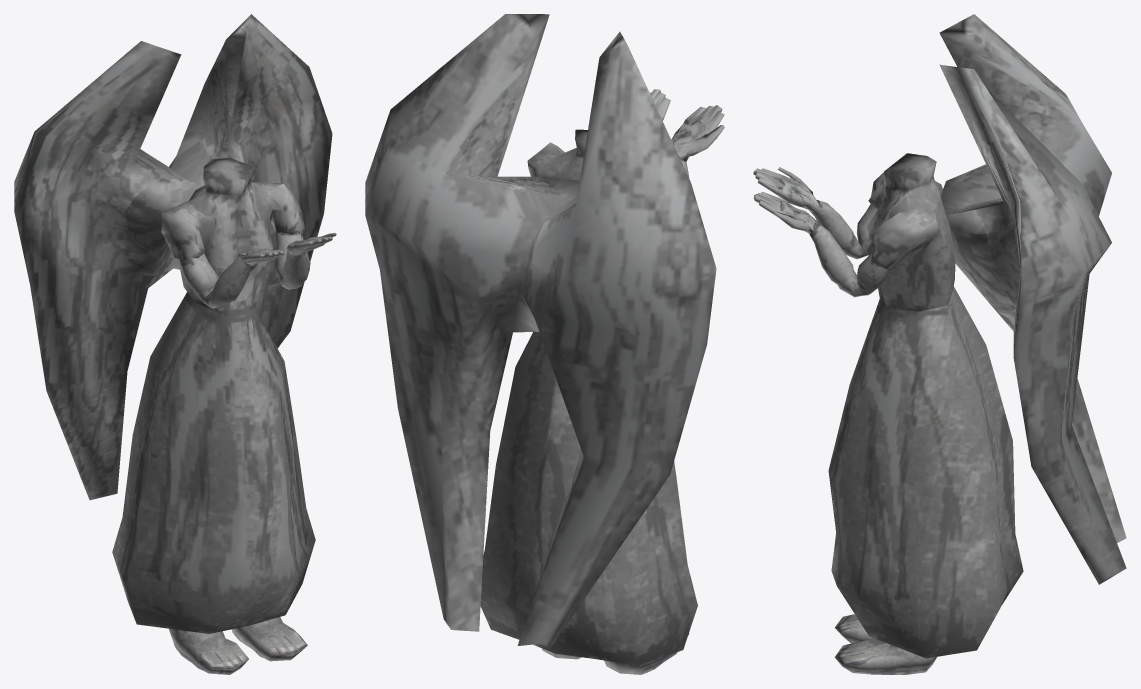
The model's file is armlessstatue.glb.
3 renders of one model, left to right at view 1: azimuth 30°, elevation 25°; view 2: azimuth 150°, elevation 25°; view 3: azimuth 270°, elevation 25°, orthographic. The views are drawn at different scales.
Visible parts, largest first — view 1: bodystatue_geo, shoes_geo, forearms_geo, hands_geo; view 2: bodystatue_geo, hands_geo, shoes_geo; view 3: bodystatue_geo, forearms_geo, shoes_geo, hands_geo.
Part boxes in pixels (bbox=[...]): bodystatue_geo: bbox=[14, 14, 332, 633]; shoes_geo: bbox=[169, 617, 307, 674]; forearms_geo: bbox=[179, 215, 310, 308]; hands_geo: bbox=[236, 233, 336, 265]; bodystatue_geo: bbox=[365, 14, 716, 665]; hands_geo: bbox=[649, 89, 724, 161]; shoes_geo: bbox=[541, 633, 689, 674]; bodystatue_geo: bbox=[828, 14, 1126, 658]; forearms_geo: bbox=[809, 200, 891, 297]; shoes_geo: bbox=[834, 614, 936, 674]; hands_geo: bbox=[753, 167, 819, 233].
Size of the model in its own units: 1.37 by 2.44 by 1.35.
4 materials, 4 textured.
